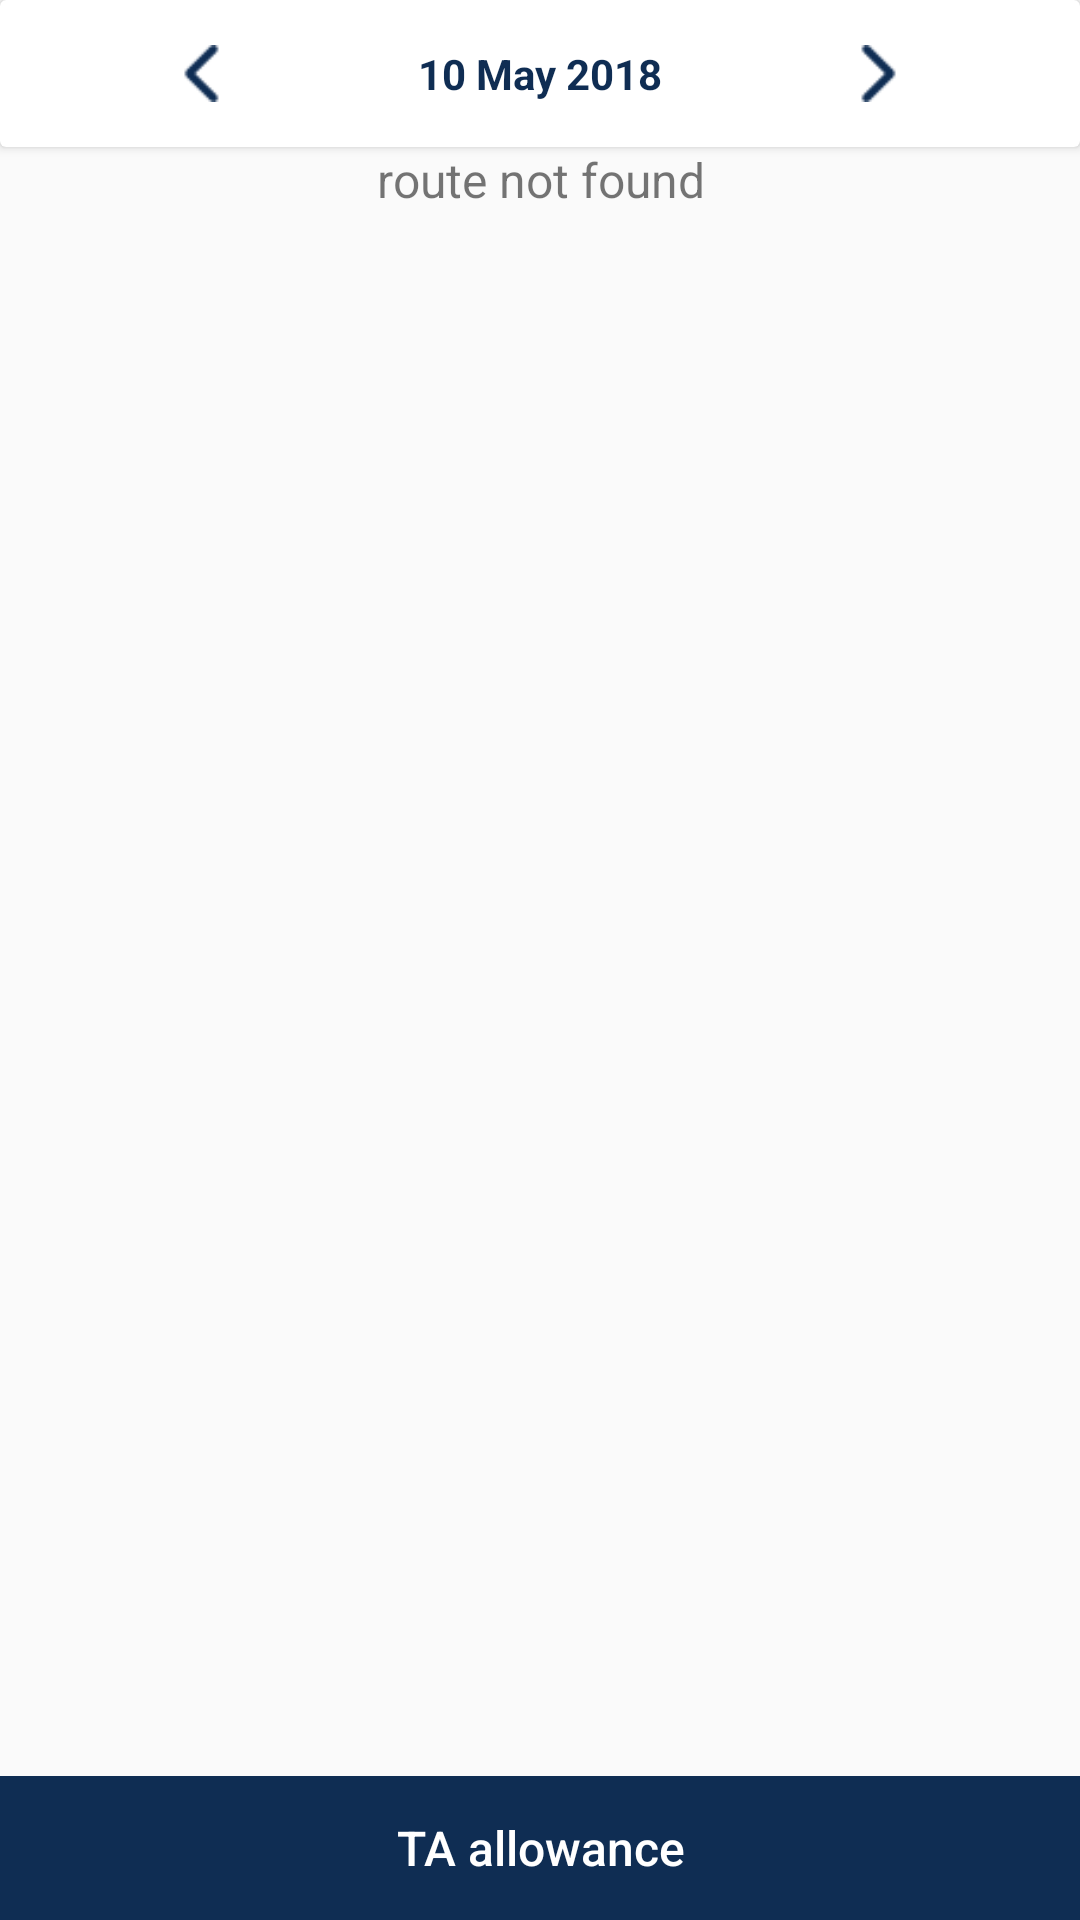

Screen size 1080w x 1920h. Icon name, then its center in pixels as [x,y]:
forward: [878,73]
previous: [201,73]
